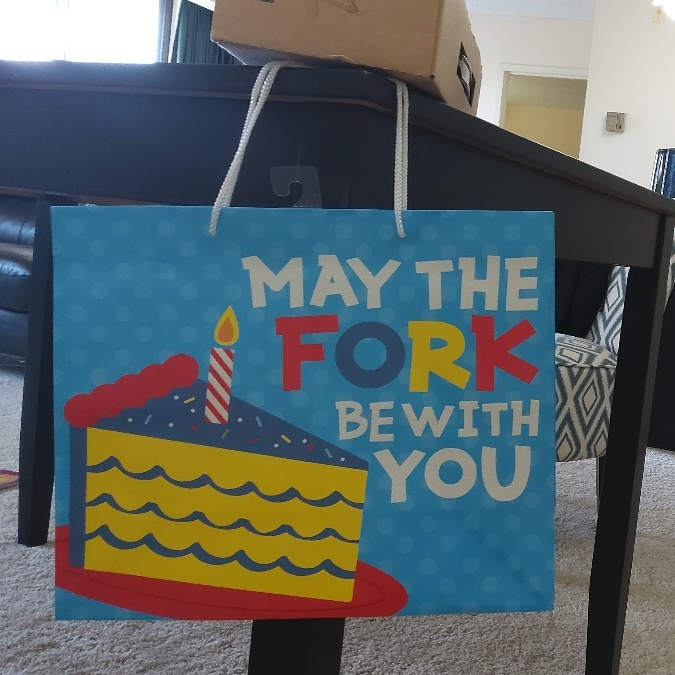paper_bag: (55, 207, 550, 608)
